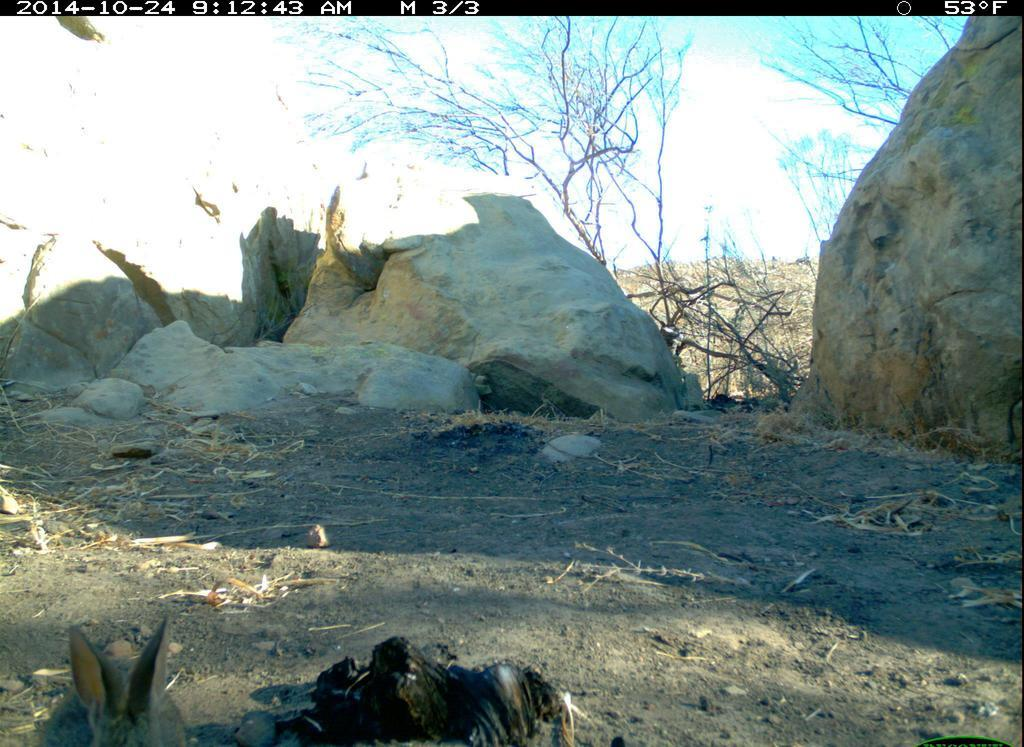rabbit: (34, 615, 194, 747)
